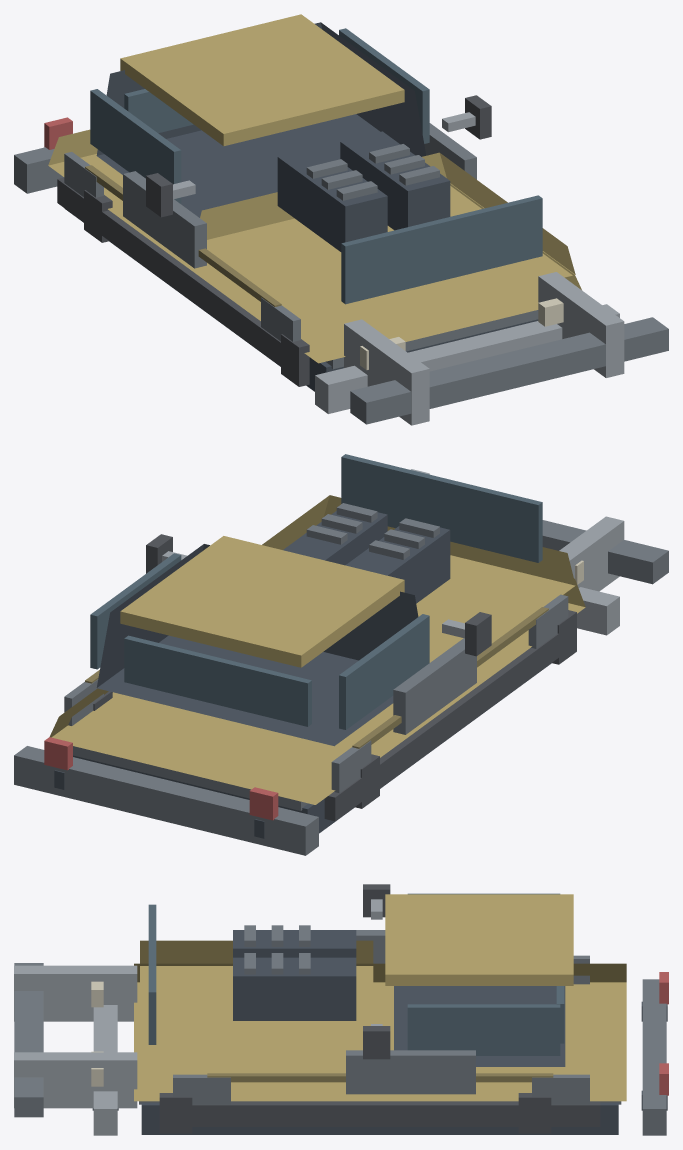
The model's file is marauder.glb.
The picture shows the model from 3 angles, top to bottom: view 1: azimuth 30°, elevation 25°; view 2: azimuth 150°, elevation 25°; view 3: azimuth 270°, elevation 25°; orthographic projection. The views are drawn at different scales.
Parts seen in each view (by area): view 1: marauder_batch01, marauder_batch00, marauder_batch02, marauder_batch08, marauder_batch05, marauder_batch03, marauder_batch04, marauder_batch06, marauder_batch07; view 2: marauder_batch01, marauder_batch08, marauder_batch02, marauder_batch00, marauder_batch03, marauder_batch05, marauder_batch07, marauder_batch04; view 3: marauder_batch01, marauder_batch00, marauder_batch02, marauder_batch03, marauder_batch05, marauder_batch08, marauder_batch04, marauder_batch07, marauder_batch06.
Boxes of the visible parts, x1=… form: marauder_batch01: x1=48, y1=14, x2=581, y2=363; marauder_batch00: x1=65, y1=22, x2=538, y2=391; marauder_batch02: x1=14, y1=123, x2=668, y2=424; marauder_batch08: x1=90, y1=28, x2=542, y2=304; marauder_batch05: x1=173, y1=112, x2=624, y2=425; marauder_batch03: x1=57, y1=95, x2=491, y2=386; marauder_batch04: x1=85, y1=165, x2=281, y2=306; marauder_batch06: x1=360, y1=298, x2=563, y2=369; marauder_batch07: x1=44, y1=117, x2=72, y2=149; marauder_batch01: x1=49, y1=495, x2=585, y2=804; marauder_batch08: x1=90, y1=454, x2=542, y2=729; marauder_batch02: x1=14, y1=503, x2=668, y2=855; marauder_batch00: x1=54, y1=511, x2=551, y2=838; marauder_batch03: x1=93, y1=534, x2=576, y2=821; marauder_batch05: x1=162, y1=469, x2=624, y2=638; marauder_batch07: x1=44, y1=737, x2=278, y2=820; marauder_batch04: x1=85, y1=607, x2=548, y2=748; marauder_batch01: x1=134, y1=894, x2=626, y2=1101; marauder_batch00: x1=92, y1=930, x2=667, y2=1134; marauder_batch02: x1=14, y1=925, x2=666, y2=1135; marauder_batch03: x1=159, y1=884, x2=600, y2=1133; marauder_batch05: x1=14, y1=899, x2=382, y2=1135; marauder_batch08: x1=148, y1=893, x2=564, y2=1055; marauder_batch04: x1=207, y1=1073, x2=553, y2=1082; marauder_batch07: x1=659, y1=972, x2=668, y2=1095; marauder_batch06: x1=91, y1=981, x2=103, y2=1086.
Size of the model in its own units: 5.08 by 2.36 by 9.56.
